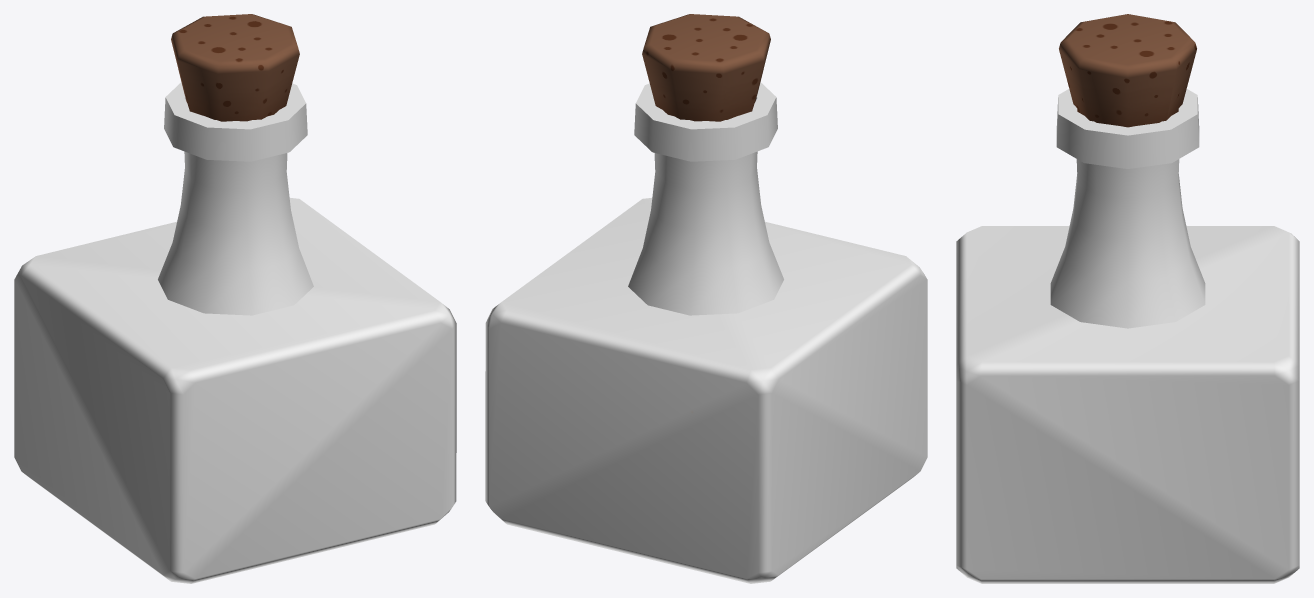
Rendered from PVB export potion orange.fbx.
The picture shows the model from 3 angles, left to right: view 1: azimuth 30°, elevation 25°; view 2: azimuth 150°, elevation 25°; view 3: azimuth 270°, elevation 25°; orthographic projection. The views are drawn at different scales.
Visible parts, largest first — view 1: body, neck, kurk; view 2: body, neck, kurk; view 3: body, neck, kurk.
Boxes of the visible parts, box(x1,y1,x2,y2) form: body: box(14, 198, 456, 583); neck: box(158, 82, 313, 315); kurk: box(171, 14, 299, 121); body: box(485, 198, 927, 583); neck: box(628, 82, 783, 315); kurk: box(642, 14, 770, 121); body: box(956, 226, 1299, 583); neck: box(1050, 89, 1205, 328); kurk: box(1059, 14, 1196, 127).
Size of the model in its own units: 6.43 by 9.85 by 6.43.
1 material, 1 textured.
